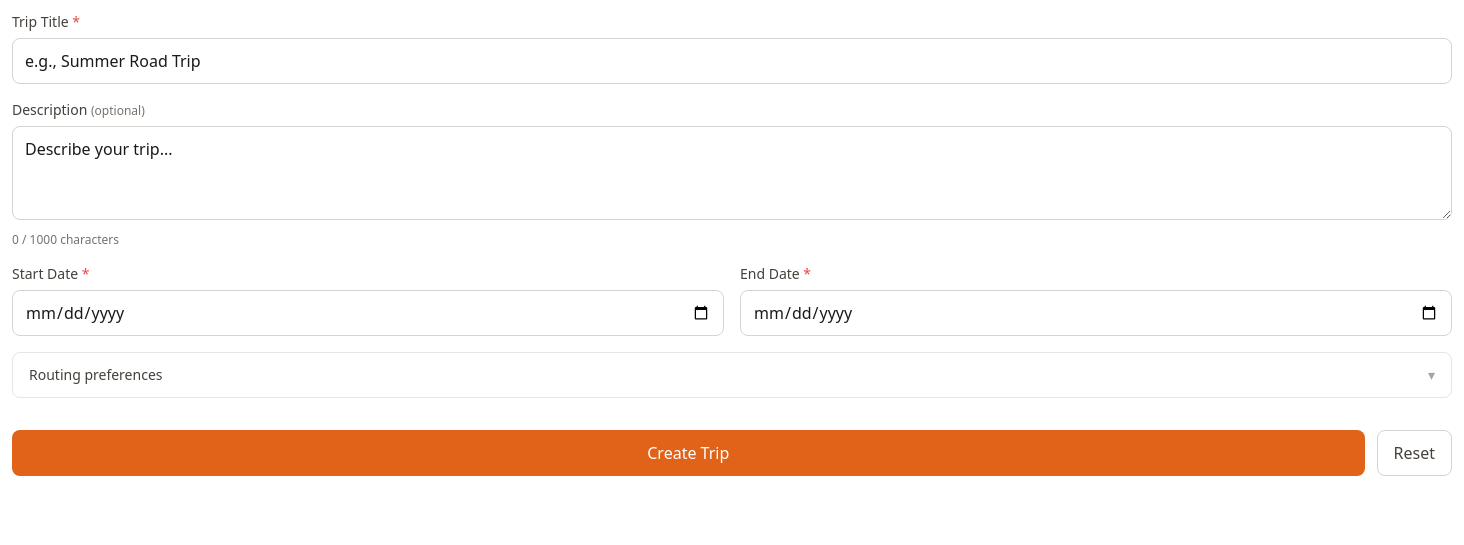
Test case: TripForm Component › Client-side Validation › should clear field error when user types
// Submit to trigger validation errors
Click the button "Create Trip".
click(688, 453)  # box [12,430,1364,476]
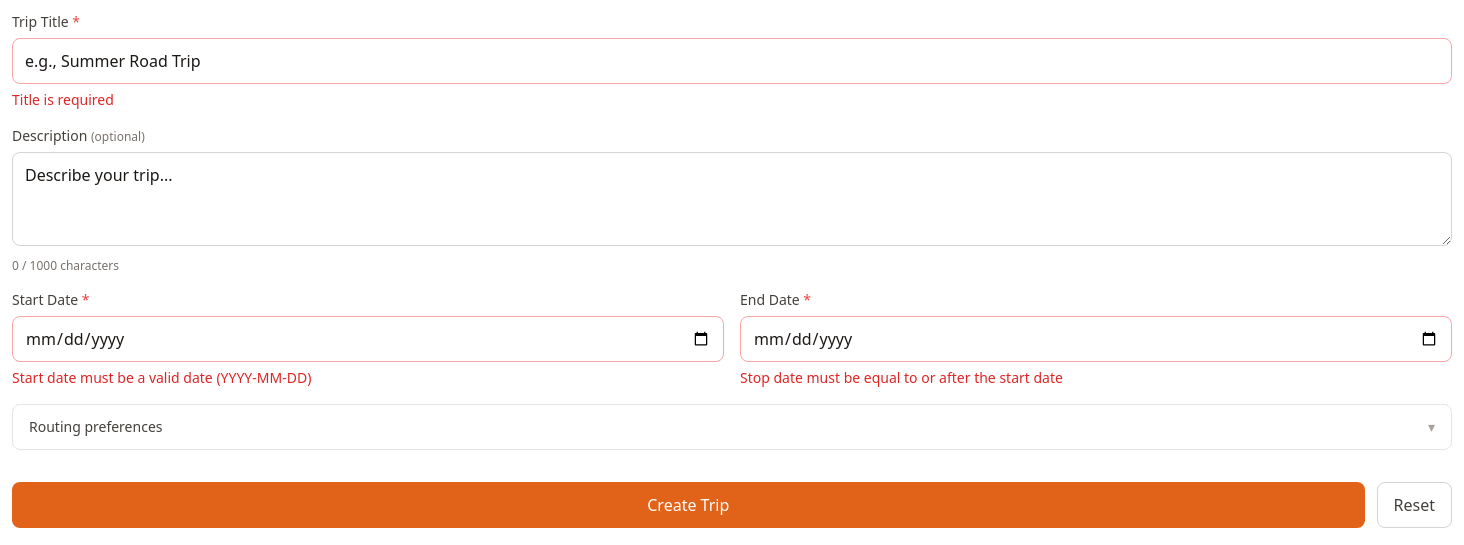
Check: the text "Title is required" is shown, box [12,90,114,109]
// Type in title field
Type "New Trip" into the field labelled "Trip Title *".
click(732, 61); type("New Trip")  # box [12,38,1452,84]
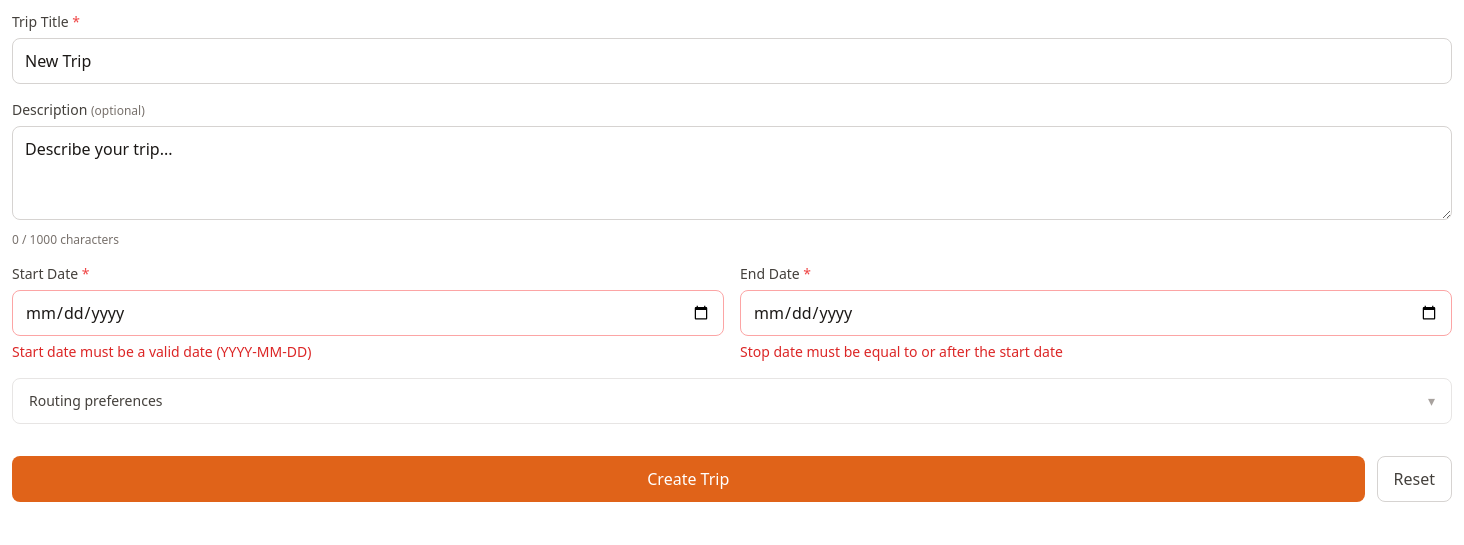
Check: the text "Title is required" is gone
